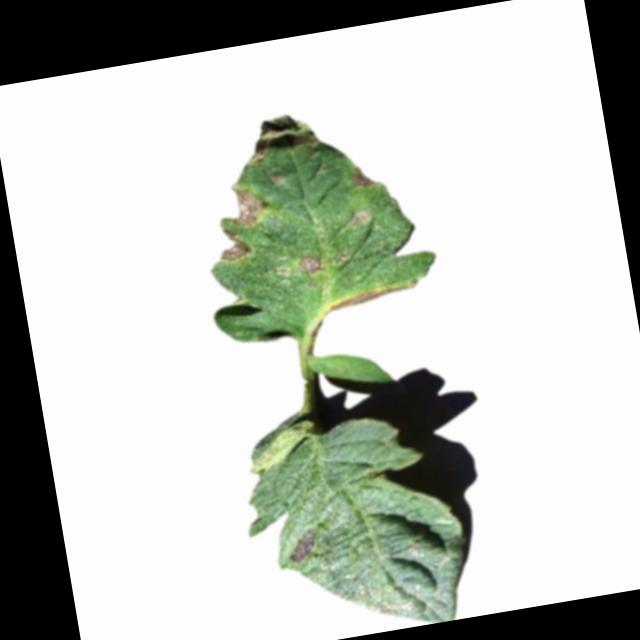Early_blight: (244, 109, 323, 163), (323, 284, 413, 315), (224, 180, 271, 230), (214, 225, 252, 266), (284, 529, 320, 565), (351, 163, 377, 191), (299, 254, 325, 277)
